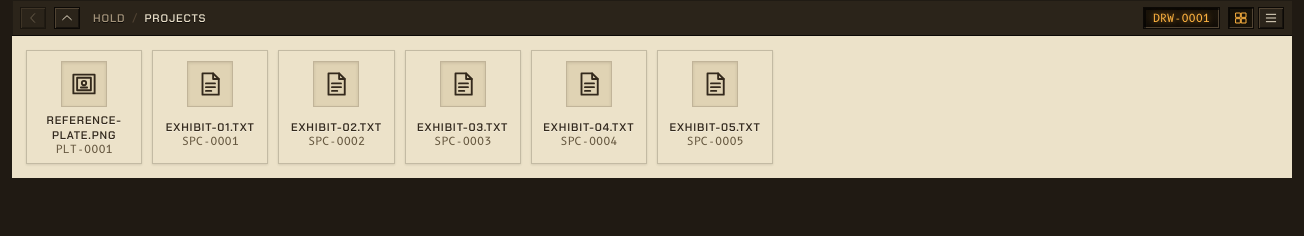
Test case: AP-1 · drawer contents › the ledger view lists the same accession order with readout columns
The image size is (1304, 236).
Click the button named "Ledger rows": (1271, 18) [1258,6,1284,28]
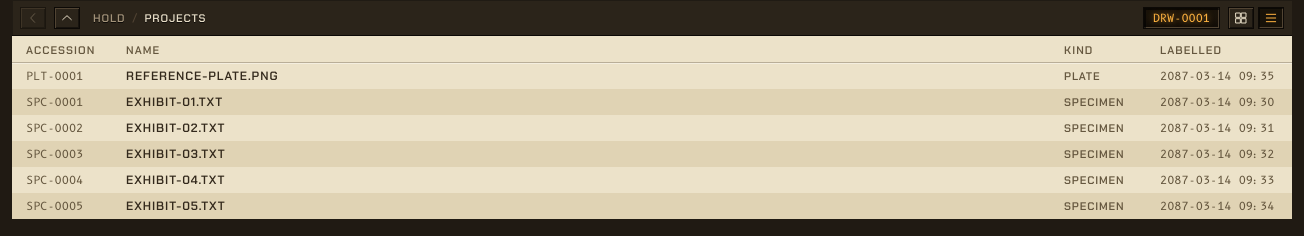
Expected: the text with class "explorer-row-kind" reads "plate", [1064,69,1100,83]
Expected: the text with class "explorer-row-stamp" reads "2087-03-14 09:35", [1160,69,1274,83]
